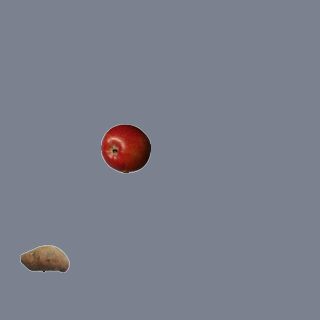Apple Braeburn: (100, 123, 150, 173)
Potato Sweet: (19, 233, 69, 283)
